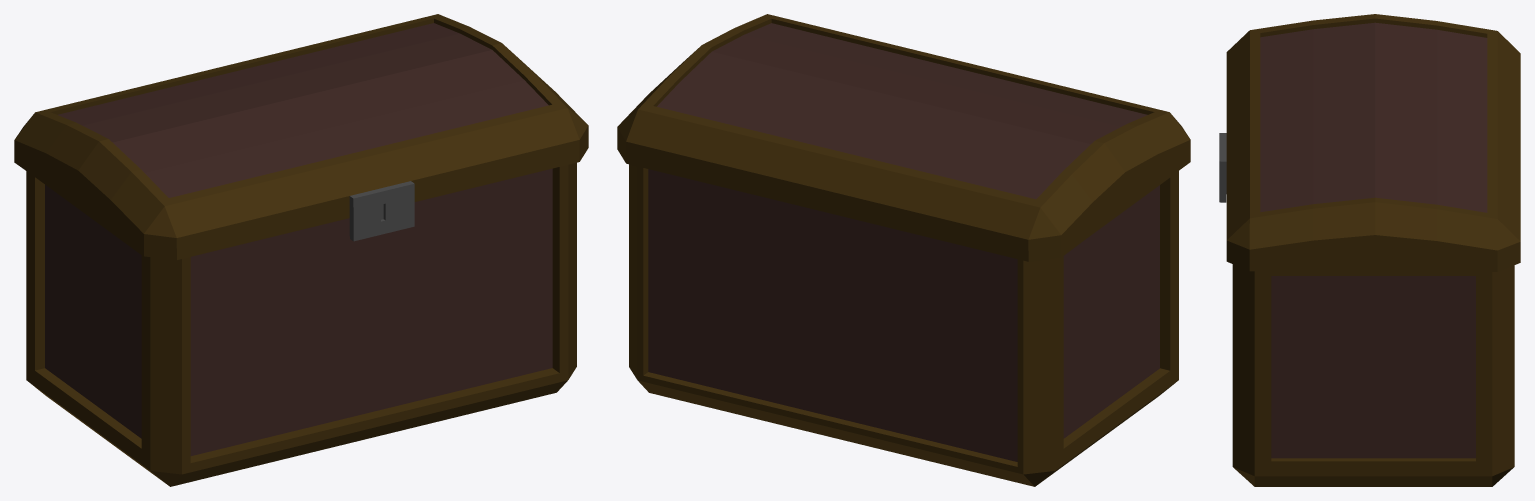
File: Baul.fbx
3 renders of one model, left to right at view 1: azimuth 30°, elevation 25°; view 2: azimuth 150°, elevation 25°; view 3: azimuth 270°, elevation 25°, orthographic. The views are drawn at different scales.
Visible parts, largest first — view 1: Baul, BaulTapa; view 2: Baul, BaulTapa; view 3: BaulTapa, Baul.
Boxes of the visible parts, x1,y1,x2,y2 form: Baul: [26, 162, 576, 486]; BaulTapa: [14, 14, 588, 260]; Baul: [629, 164, 1178, 486]; BaulTapa: [617, 14, 1190, 261]; BaulTapa: [1219, 14, 1520, 271]; Baul: [1232, 264, 1514, 486].
Size of the model in its own units: 125 by 80.71 by 76.4.
